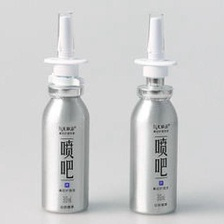bottle: (35, 6, 95, 216), (123, 8, 182, 219)
